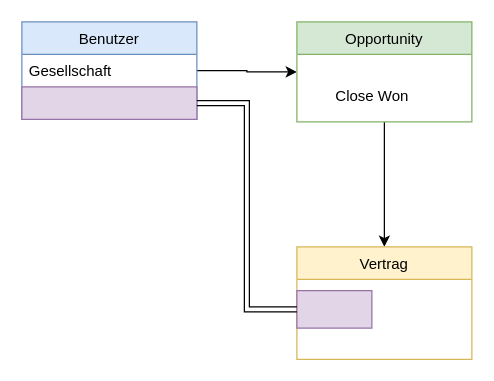
This 494x381 diagram has some shape labels left out. Each missing label, with the centre of its shape:
Manager: the point at 109,102
MD in c harge: the point at 334,308
